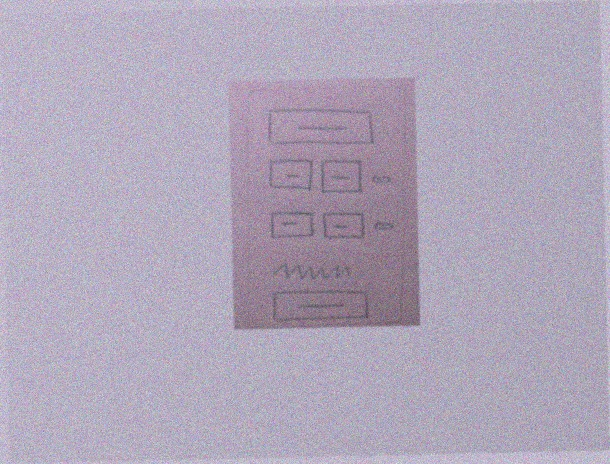button: (261, 104, 381, 150), (271, 286, 373, 324), (264, 156, 318, 195), (264, 206, 317, 243), (318, 208, 370, 244), (319, 158, 368, 195)
switch: (369, 170, 399, 188), (372, 218, 400, 235)
text: (268, 259, 357, 283)
